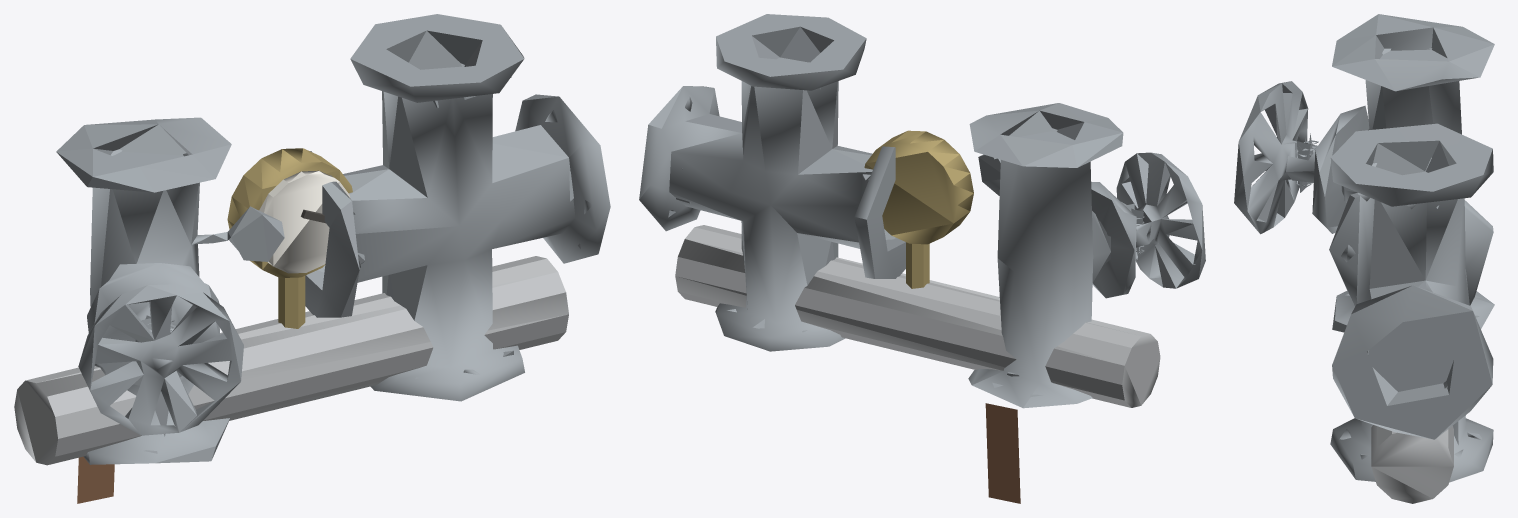
The model's file is Dress_PipeValve_Cluster.fbx.
3 views of the same model, side by side, from view 1: azimuth 30°, elevation 25°; view 2: azimuth 150°, elevation 25°; view 3: azimuth 270°, elevation 25° (orthographic). The views are drawn at different scales.
Parts seen in each view (by area): view 1: Dress_PipeValve_Cluster; view 2: Dress_PipeValve_Cluster; view 3: Dress_PipeValve_Cluster.
Part boxes in pixels (x1,y1,x2,y2): Dress_PipeValve_Cluster: (14,14,610,503); Dress_PipeValve_Cluster: (639,14,1205,503); Dress_PipeValve_Cluster: (1234,14,1494,503).
Size of the model in its own units: 74.72 by 54.21 by 33.99.
